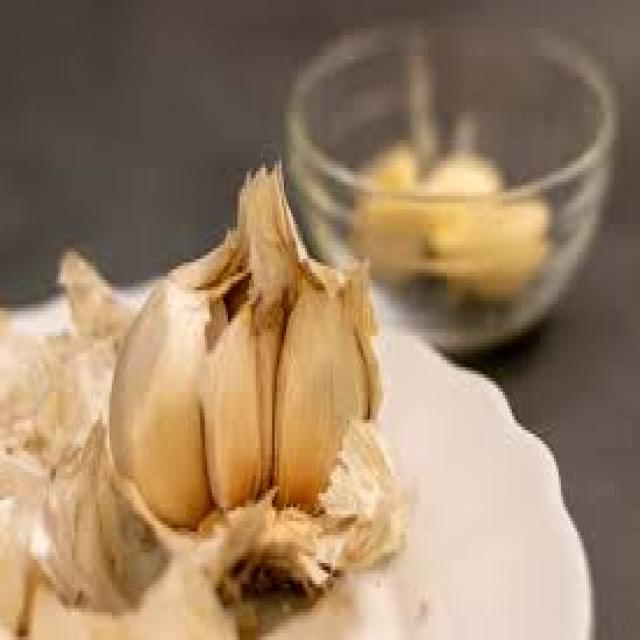organic waste: (110, 157, 402, 633), (107, 255, 256, 525), (28, 406, 163, 616), (272, 262, 366, 504), (37, 238, 135, 437), (202, 273, 263, 500), (445, 192, 556, 308), (354, 136, 426, 276), (421, 144, 503, 255), (0, 301, 51, 451), (254, 294, 286, 496), (0, 454, 35, 636)
